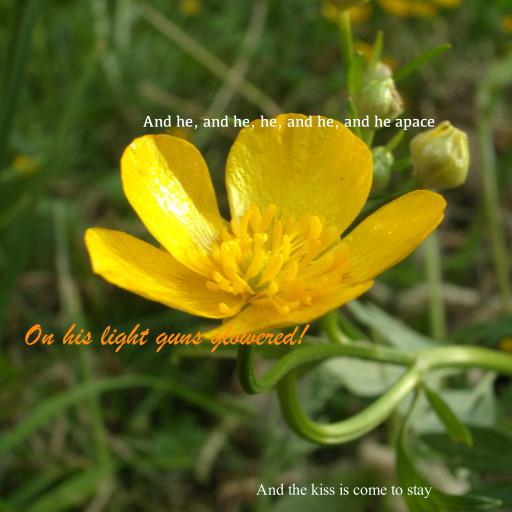Brush Script MT: (23, 323, 307, 353)
Kefa: (143, 115, 435, 131)
Times New Roman: (256, 483, 432, 499)
